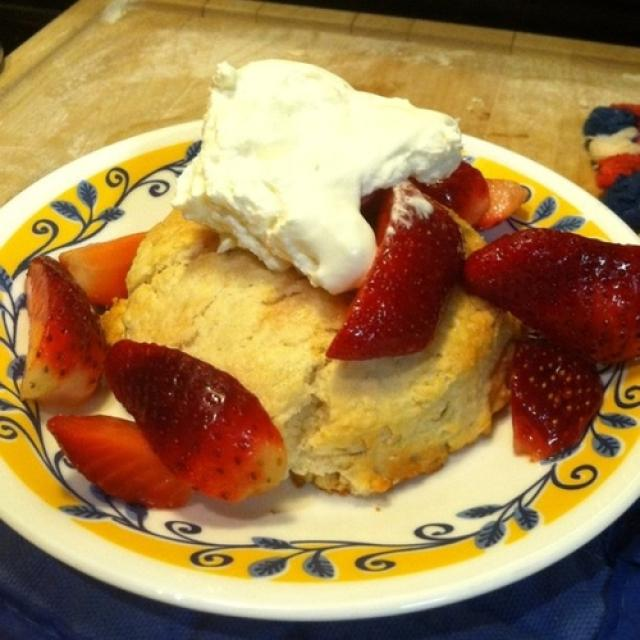蛋糕甜品: (1, 28, 634, 626)
